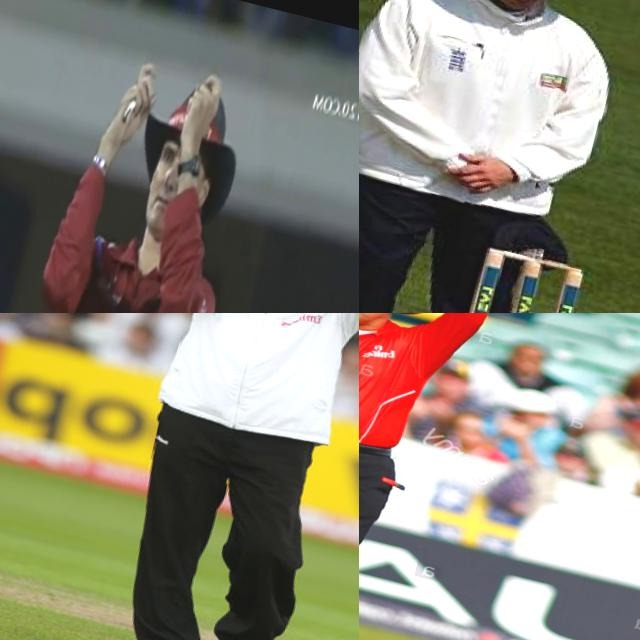No_Action: (359, 0, 640, 313)
Six: (0, 313, 359, 640), (0, 27, 286, 313), (359, 313, 529, 640)
